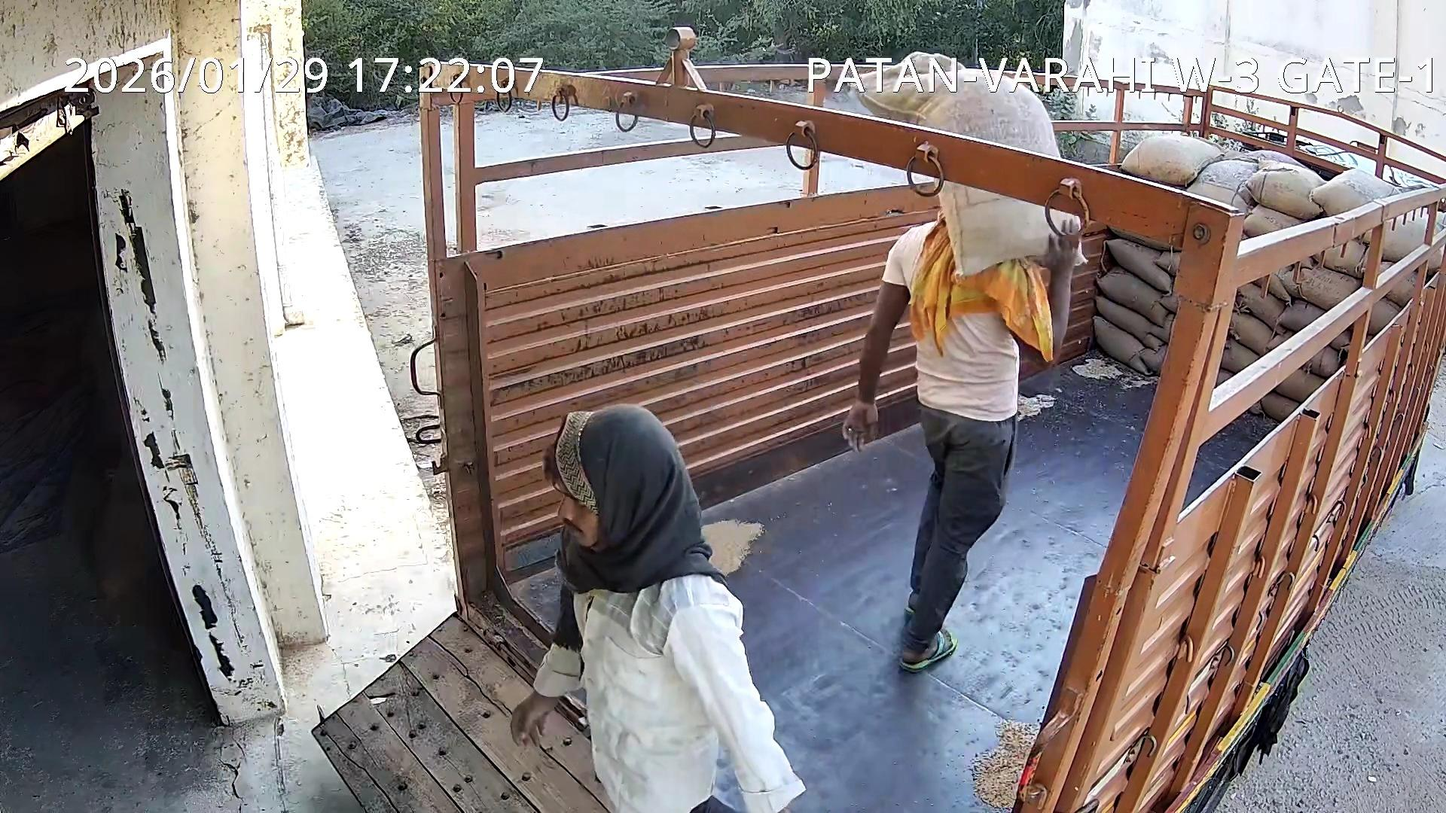Sack: (861, 52, 1059, 158), (938, 181, 1051, 277)
